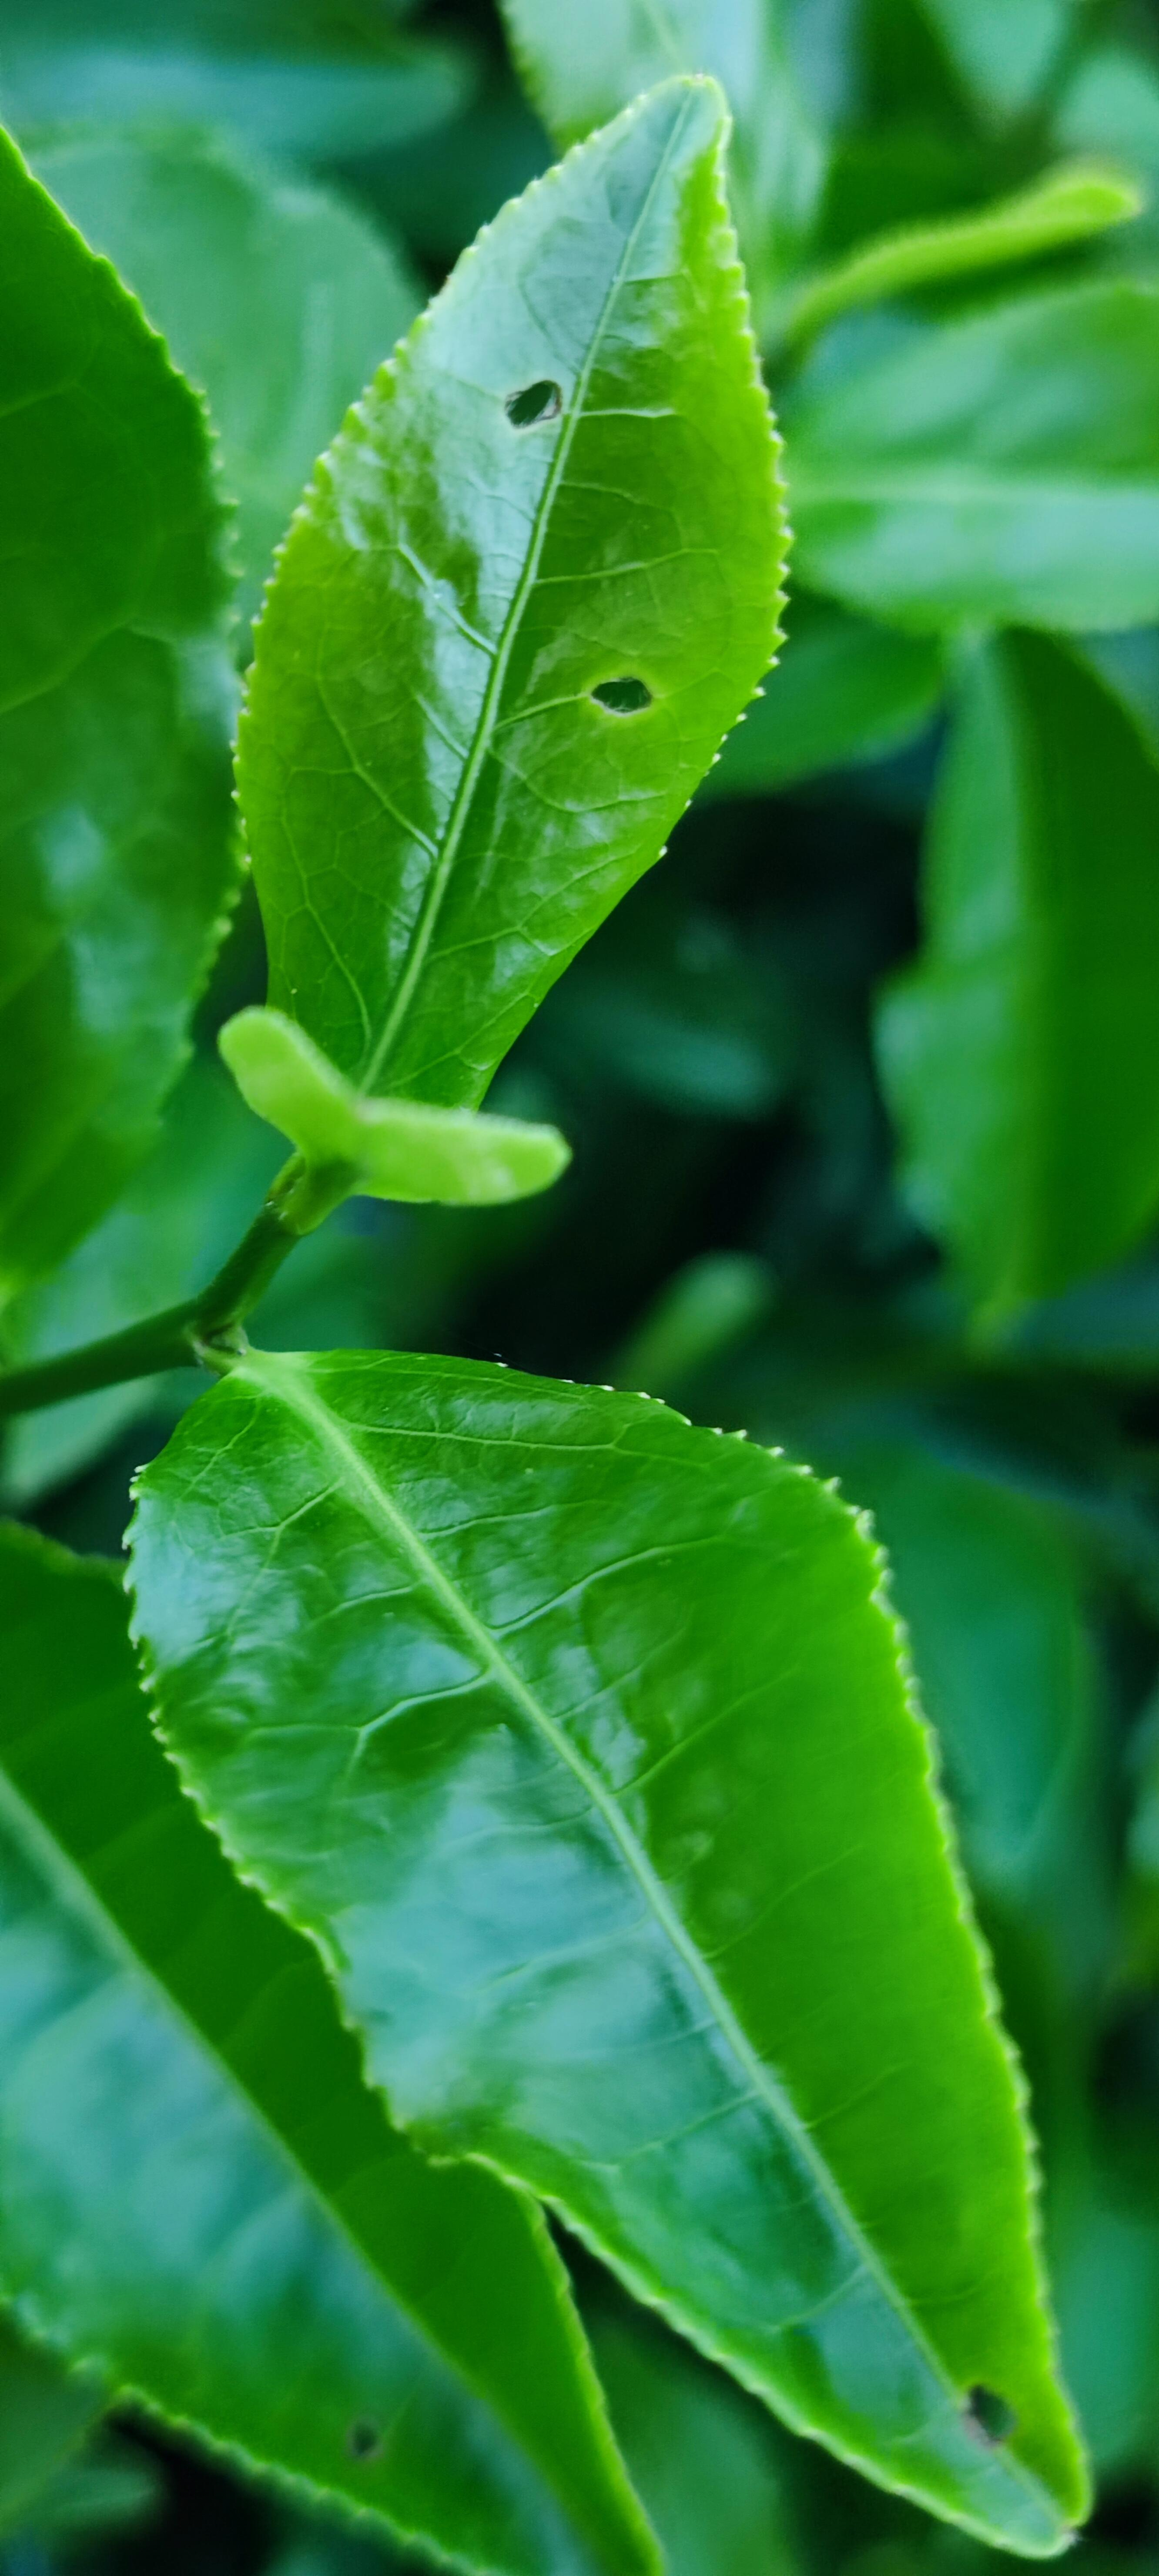chihuo_high: (227, 77, 798, 1111)
chihuo_low: (118, 1342, 1097, 2560)
